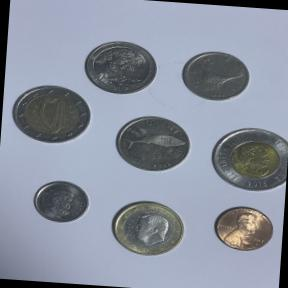coin: (202, 114, 288, 198), (105, 104, 197, 180), (5, 80, 96, 152), (104, 194, 193, 262), (80, 36, 162, 98), (205, 200, 278, 257), (29, 176, 94, 228)
